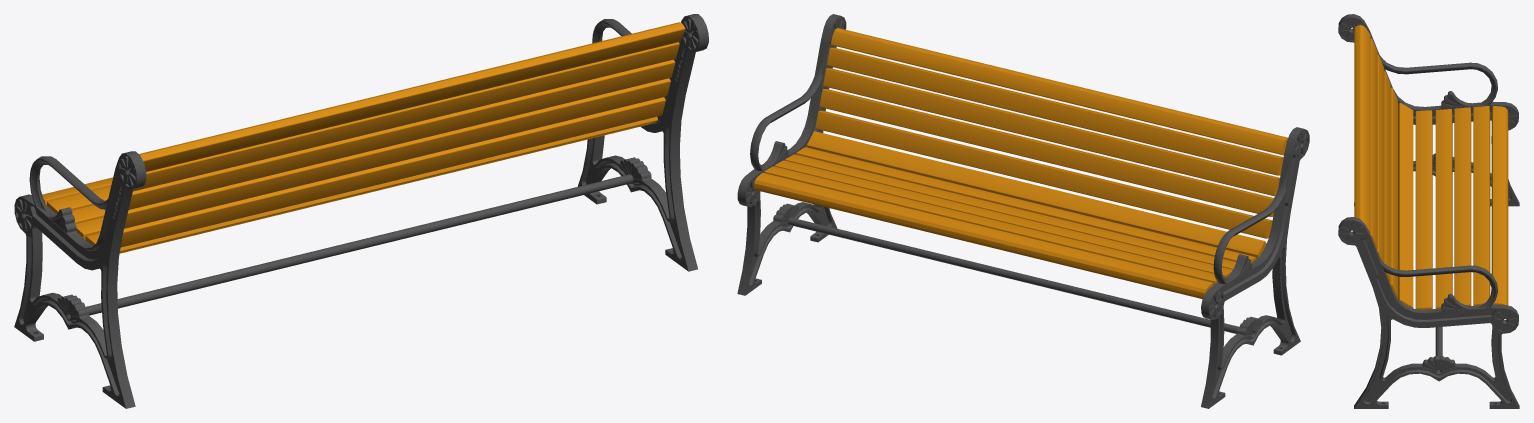
The picture shows the model from 3 angles, left to right: view 1: azimuth 30°, elevation 25°; view 2: azimuth 150°, elevation 25°; view 3: azimuth 270°, elevation 25°; orthographic projection. The views are drawn at different scales.
Visible parts, largest first — view 1: mesh117_mesh117-geometry, mesh1_mesh1-geometry, mesh119_mesh119-geometry, mesh114_mesh114-geometry; view 2: mesh117_mesh117-geometry, mesh119_mesh119-geometry, mesh1_mesh1-geometry, mesh114_mesh114-geometry; view 3: mesh117_mesh117-geometry, mesh1_mesh1-geometry, mesh119_mesh119-geometry, mesh114_mesh114-geometry.
Boxes of the visible parts, x1,y1,x2,y2 form: mesh117_mesh117-geometry: [46, 42, 679, 253]; mesh1_mesh1-geometry: [14, 14, 708, 408]; mesh119_mesh119-geometry: [42, 22, 685, 204]; mesh114_mesh114-geometry: [85, 174, 633, 315]; mesh117_mesh117-geometry: [764, 47, 1283, 284]; mesh119_mesh119-geometry: [754, 28, 1287, 298]; mesh1_mesh1-geometry: [737, 14, 1309, 408]; mesh114_mesh114-geometry: [788, 217, 1239, 333]; mesh117_mesh117-geometry: [1370, 38, 1490, 309]; mesh1_mesh1-geometry: [1338, 14, 1519, 408]; mesh119_mesh119-geometry: [1354, 25, 1508, 305]; mesh114_mesh114-geometry: [1435, 327, 1442, 369].
Size of the model in its own units: 0.8706 by 0.3713 by 0.3229.
